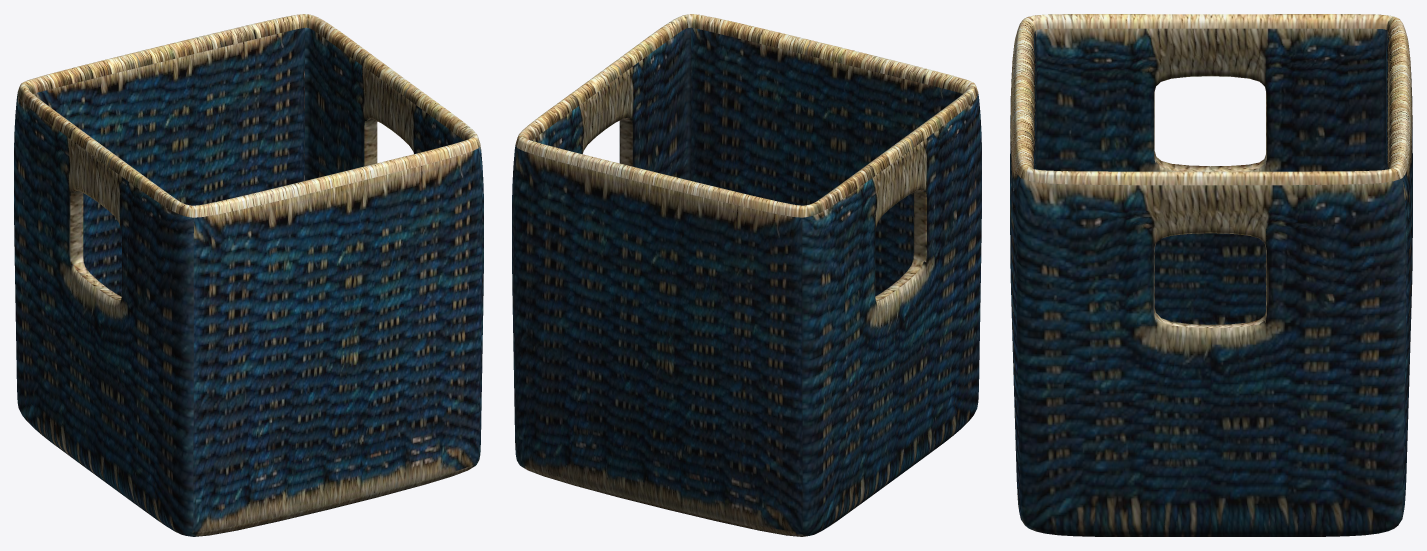
File: basket_0.obj
The picture shows the model from 3 angles, left to right: view 1: azimuth 30°, elevation 25°; view 2: azimuth 150°, elevation 25°; view 3: azimuth 270°, elevation 25°; orthographic projection. The views are drawn at different scales.
Bounding box in the file's own units: 1.11 × 1.19 × 1.15.
1 material, 1 textured.
